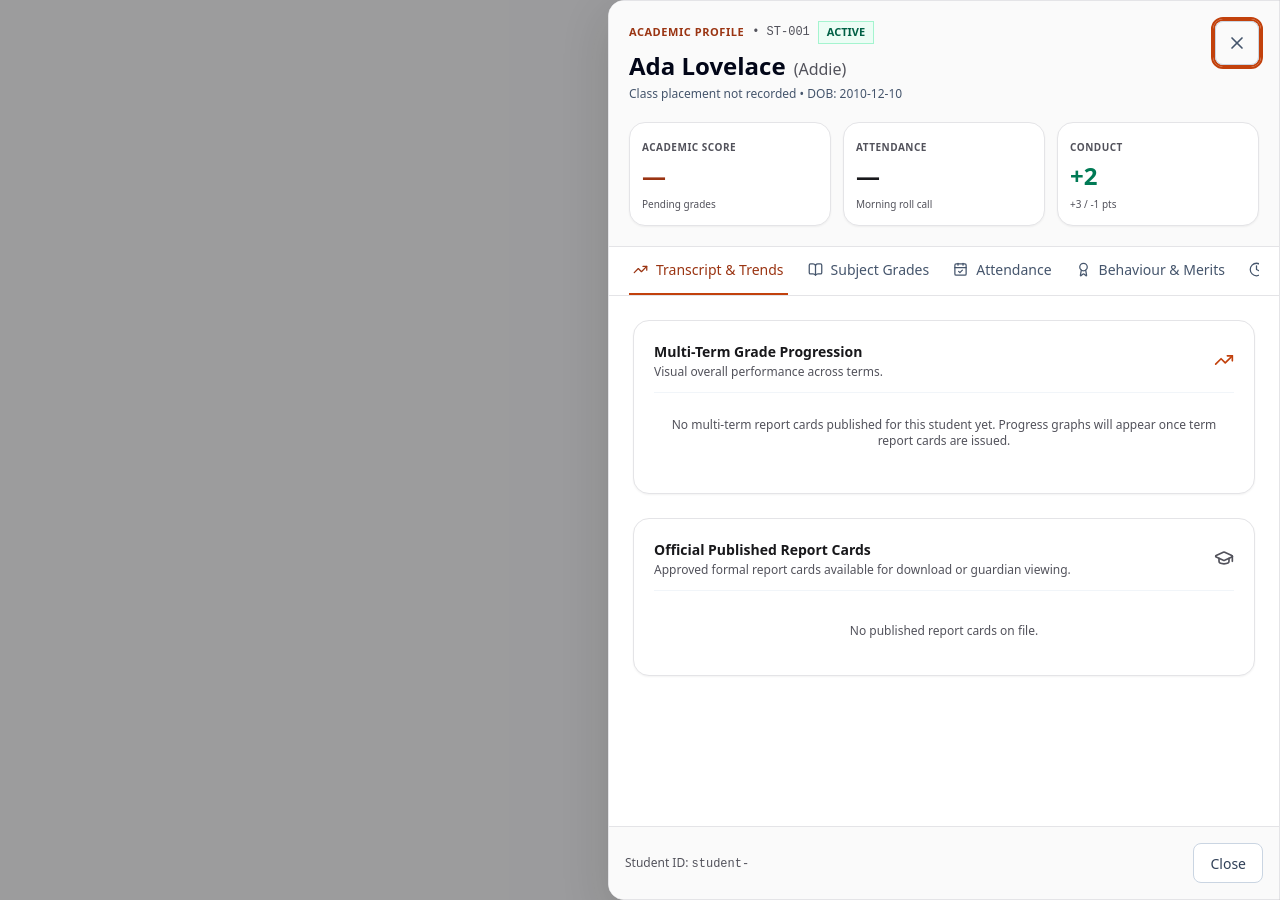
Scenario: StudentAcademicDrawer component › switches to Behaviour & Merits tab and displays conduct logs
Click the button "Behaviour & Merits". click: (1150, 270)
box: [1072,246,1229,294]
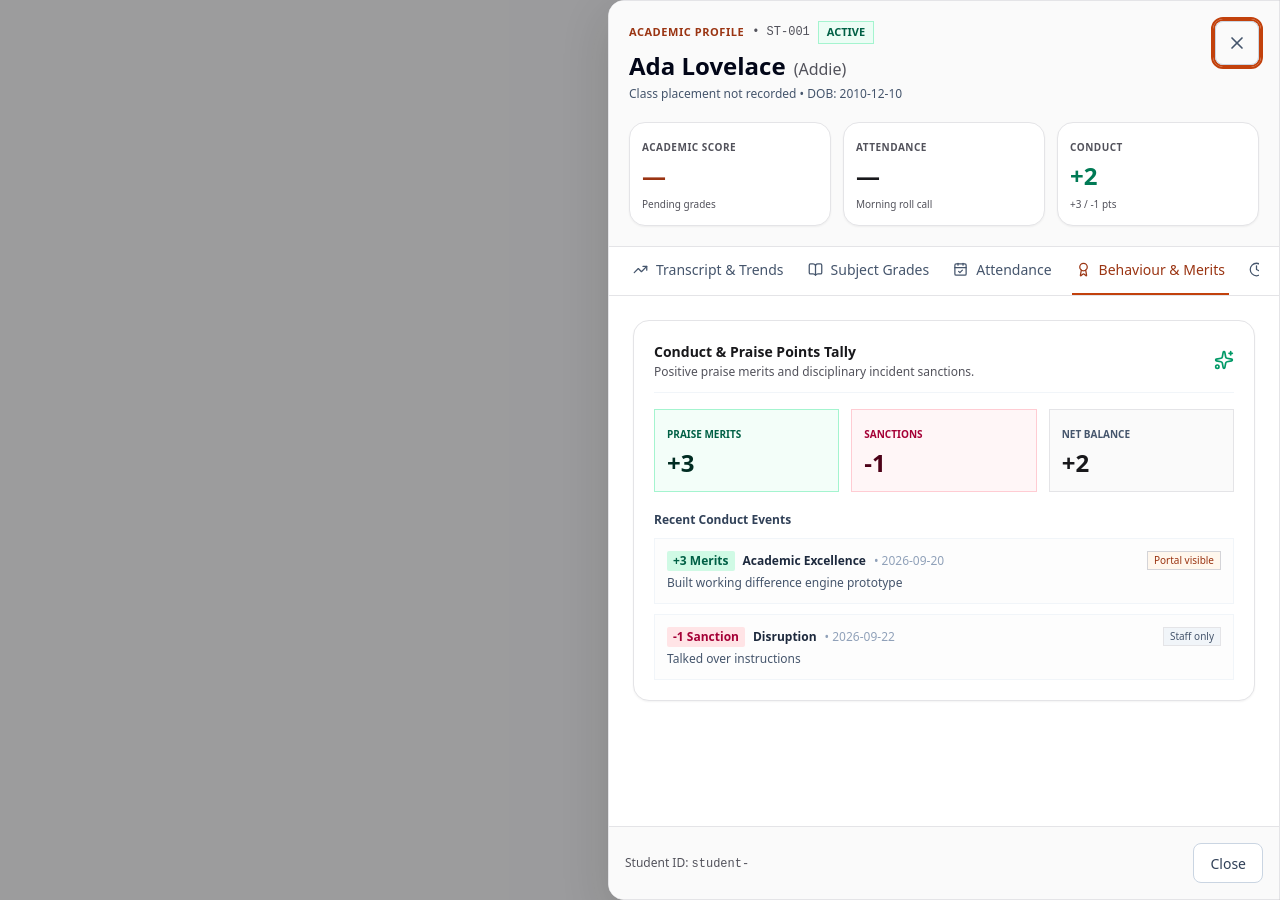
Now the heading "Conduct & Praise Points Tally" is shown, box [654,342,856,360]
Now the text "+3" is shown, box [667,446,694,478]
Now the text "-1" is shown, box [864,446,886,478]
